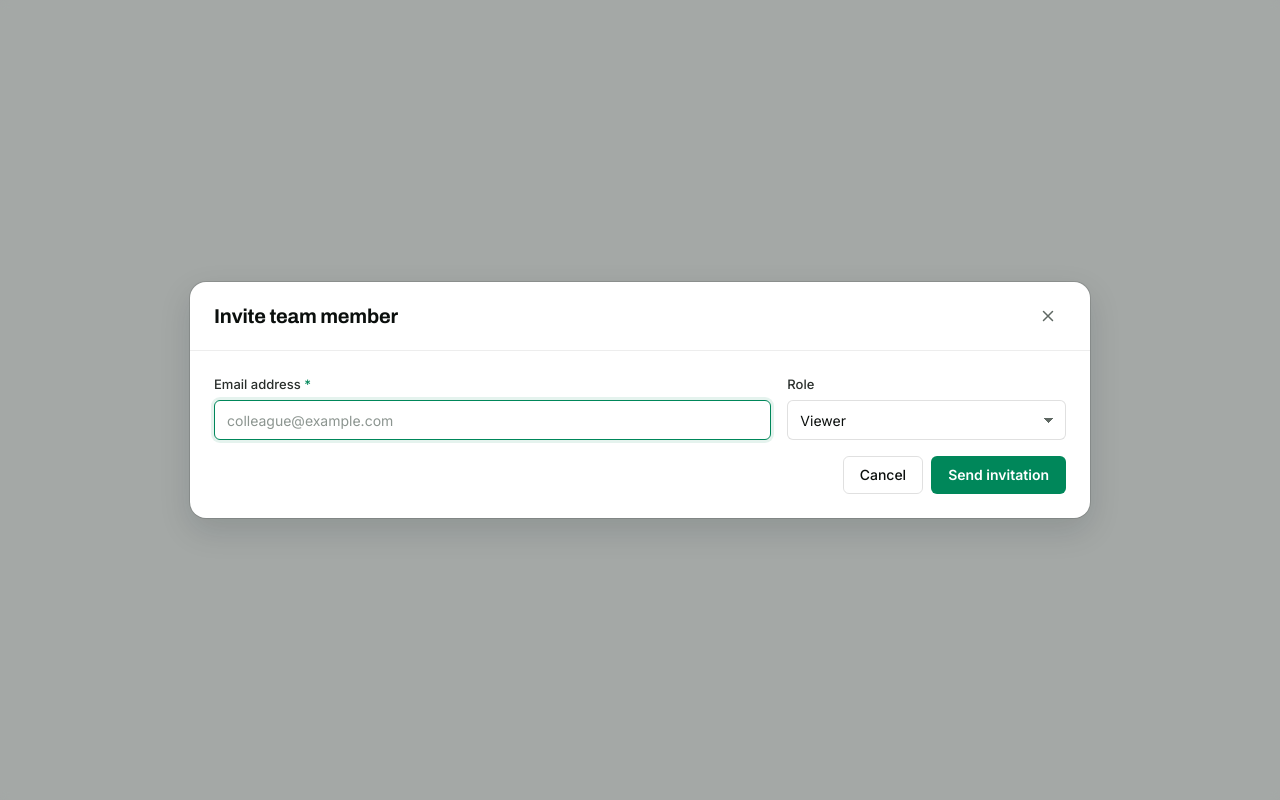
Scenario: InviteModal › shows the API error and stays open
Type "dup@acme.in" into the field labelled "Email address *" at (493, 420), box [214, 400, 771, 440]
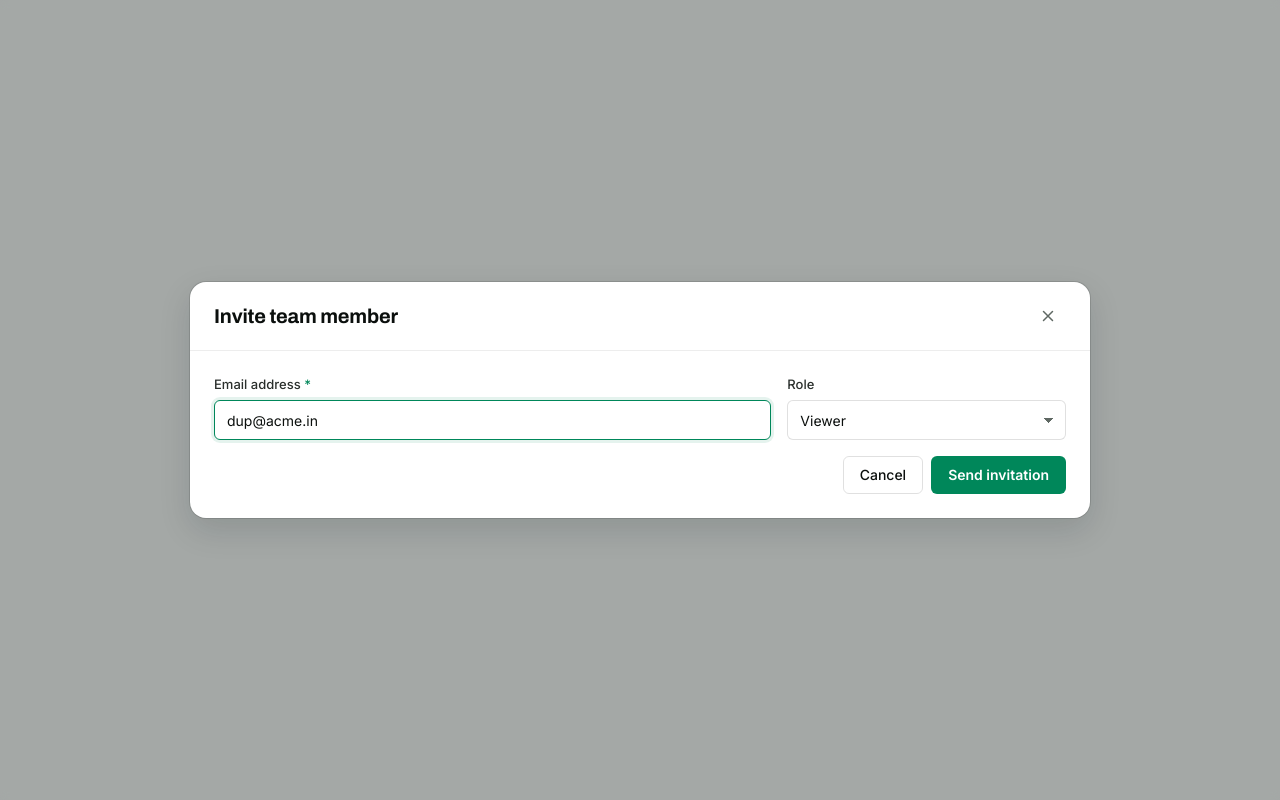
Click the button "Send invitation" at (999, 475), box [931, 456, 1066, 494]
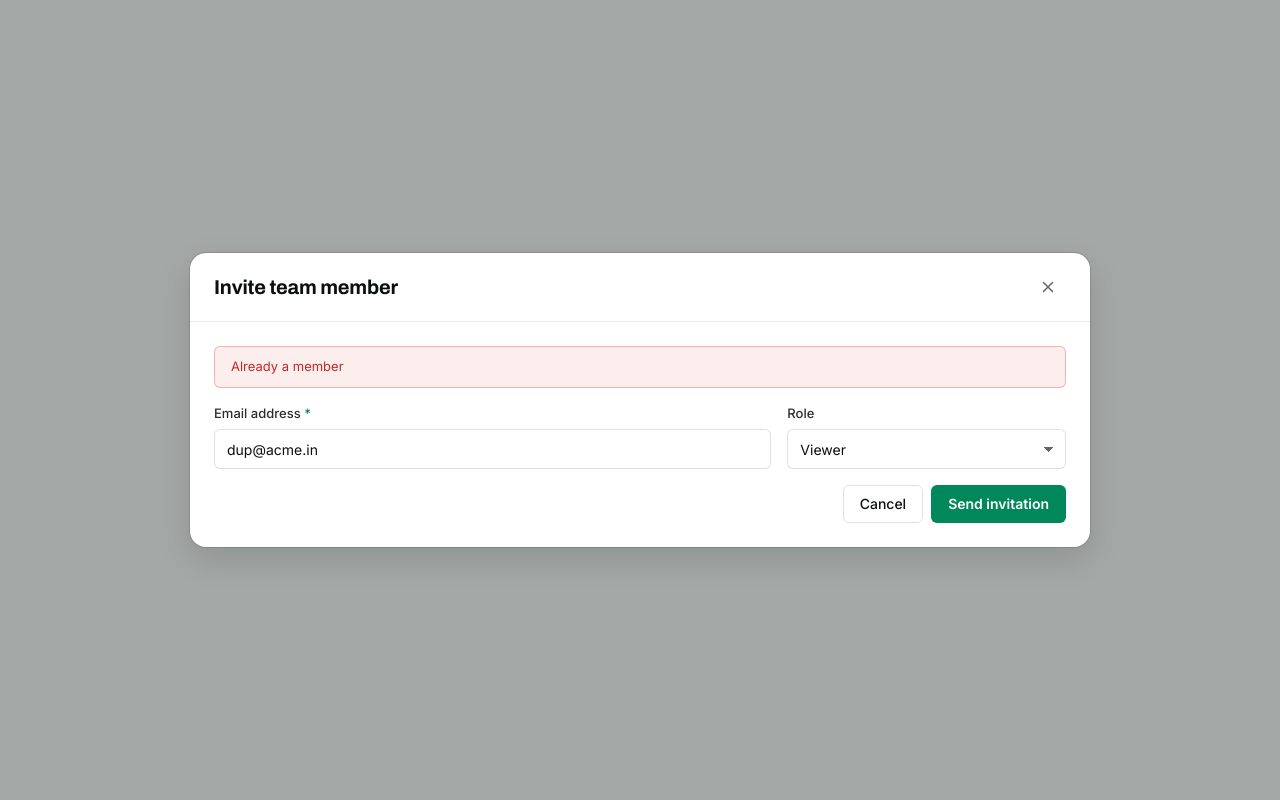
Expected: the text "Already a member" is shown, [231, 358, 344, 374]
